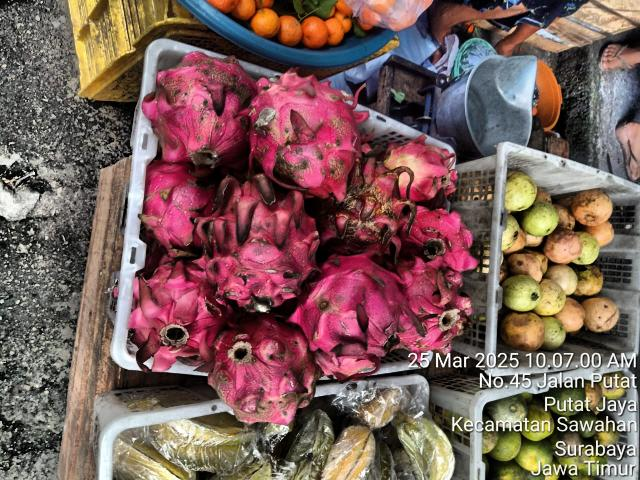buah-naga-belum-matang: (382, 138, 462, 206)
buah-naga-matang: (193, 172, 317, 310), (240, 76, 366, 204), (293, 247, 403, 369), (142, 52, 260, 162), (126, 256, 232, 376), (204, 310, 312, 424), (324, 156, 420, 258), (396, 201, 482, 293), (134, 161, 210, 254), (402, 284, 476, 356)
